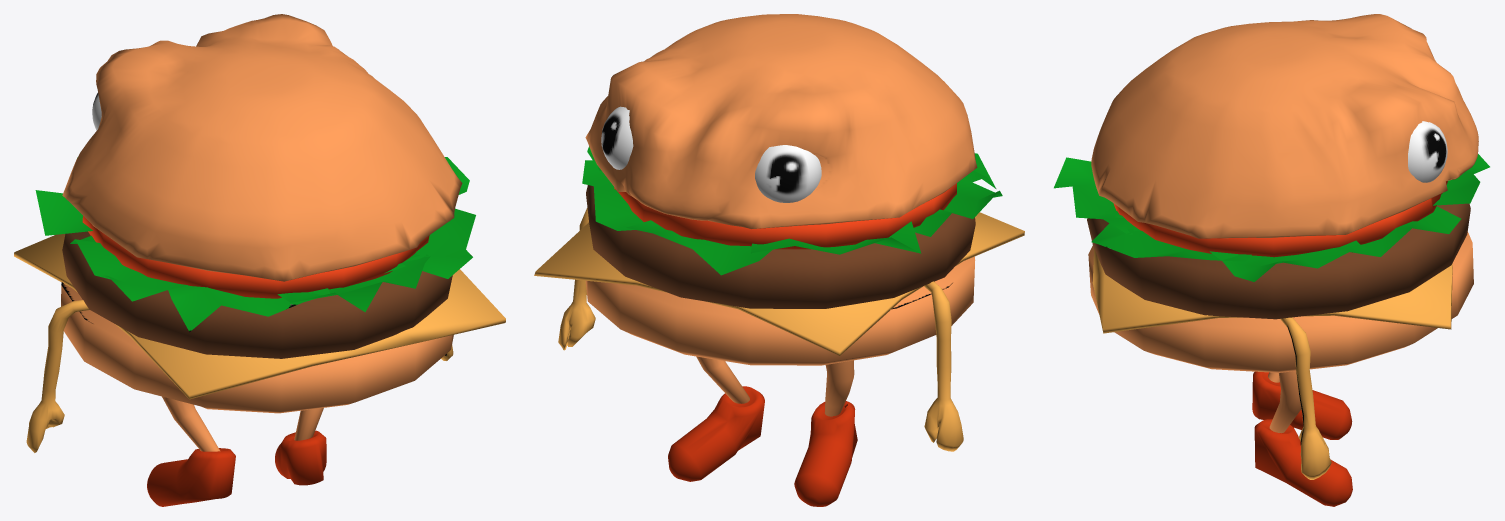
Rendered from plushroyale.fbx.
The picture shows the model from 3 angles, left to right: view 1: azimuth 30°, elevation 25°; view 2: azimuth 150°, elevation 25°; view 3: azimuth 270°, elevation 25°; orthographic projection. The views are drawn at different scales.
Parts seen in each view (by area): view 1: Royale; view 2: Royale; view 3: Royale.
Part boxes in pixels (left/top/right/bottom): Royale: left=14, top=14, right=505, bottom=506; Royale: left=534, top=14, right=1024, bottom=506; Royale: left=1054, top=14, right=1489, bottom=506.
Bounding box in the file's own units: 0.3603 × 0.3688 × 0.3432.
